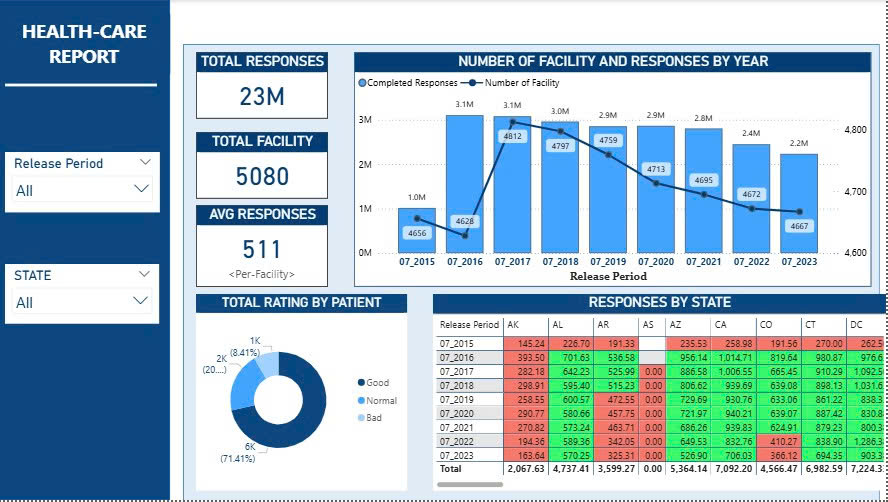

This screenshot's page, from the dashboard's own definition file:
{"tool":"powerbi","page":{"name":"Summary","canvas":[1280,720],"ordinal":0},"visuals":[{"type":"shape","box":[266.1,62.7,1003.2,657.6],"z":0},{"type":"shape","box":[0,0,247.7,720.3],"z":1000},{"type":"lineStackedColumnComboChart","title":"NUMBER OF FACILITY AND RESPONSES BY YEAR","fields":{"Category":["responses.Release Period"],"Y":["Sum(responses.Completed Surveys)"],"Y2":["Count(responses.Facility ID)"]},"box":[512.3,74.9,744.8,338],"z":2000},{"type":"pivotTable","title":"RESPONSES BY STATE","fields":{"Rows":["responses.Release Period"],"Values":["responses.Response_per_facility"],"Columns":["responses.State"]},"box":[626.1,423.3,653.9,283.1],"z":3000},{"type":"slicer","fields":{"Values":["responses.State"]},"box":[10.7,380.8,221.7,85.6],"z":4000},{"type":"card","title":"AVG RESPONSES","fields":{"Values":["responses.Non_filtered_avg_response"]},"box":[284.4,295.1,189.6,117.8],"z":5000},{"type":"donutChart","title":"TOTAL RATING BY PATIENT","fields":{"Y":["Sum(national_results.Top-box Percentage)","Sum(national_results.Middle-box Percentage)","Sum(national_results.Bottom-box Percentage)"]},"box":[284.4,423.6,304.3,282.9],"z":6000},{"type":"slicer","fields":{"Values":["reports.Release Period"]},"box":[10.7,218.7,223.3,87.2],"z":7000},{"type":"card","title":"TOTAL RESPONSES","fields":{"Values":["responses.Total_responses"]},"box":[284.4,74.9,189.6,96.3],"z":8000},{"type":"card","title":"TOTAL FACILITY","fields":{"Values":["responses.Counting_Facility_ID"]},"box":[284.4,189.6,189.6,96.3],"z":9000},{"type":"textbox","box":[0,19.9,247.7,55.1],"z":10000},{"type":"shape","box":[11.5,56.2,218.9,66.2],"z":11000}]}

Visuals, with their boxes in screenshot pixels (x1, y1, x2, y2), scaled from the page's 1280x720 canvas onto the 888x502 screenshot:
shape: pyautogui.locateOnScreen(185, 44, 881, 501)
shape: pyautogui.locateOnScreen(0, 0, 172, 501)
"NUMBER OF FACILITY AND RESPONSES BY YEAR" lineStackedColumnComboChart: pyautogui.locateOnScreen(355, 52, 872, 288)
"RESPONSES BY STATE" pivotTable: pyautogui.locateOnScreen(434, 295, 887, 493)
slicer - responses.State: pyautogui.locateOnScreen(7, 266, 161, 325)
"AVG RESPONSES" card: pyautogui.locateOnScreen(197, 206, 329, 288)
"TOTAL RATING BY PATIENT" donutChart: pyautogui.locateOnScreen(197, 295, 408, 493)
slicer - reports.Release Period: pyautogui.locateOnScreen(7, 152, 162, 213)
"TOTAL RESPONSES" card: pyautogui.locateOnScreen(197, 52, 329, 119)
"TOTAL FACILITY" card: pyautogui.locateOnScreen(197, 132, 329, 199)
textbox: pyautogui.locateOnScreen(0, 14, 172, 52)
shape: pyautogui.locateOnScreen(8, 39, 160, 85)
